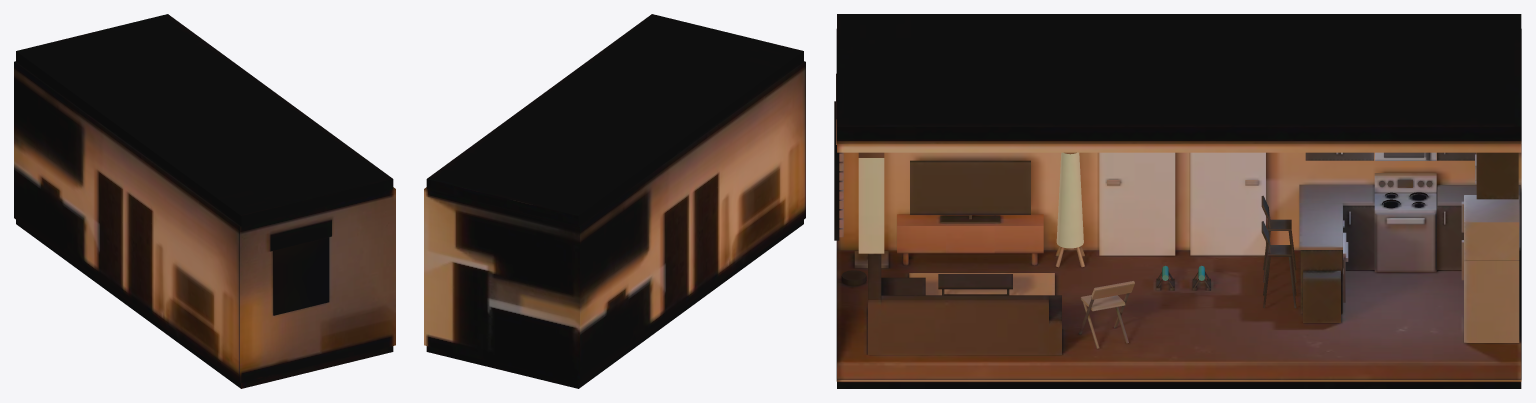
File: earl-street-transformed.glb
3 views of the same model, side by side, from view 1: azimuth 30°, elevation 25°; view 2: azimuth 150°, elevation 25°; view 3: azimuth 270°, elevation 25° (orthographic). The views are drawn at different scales.
Parts seen in each view (by area): view 1: Earl Street; view 2: Earl Street; view 3: Earl Street.
Part boxes in pixels (bbox=[...]): Earl Street: bbox=[14, 14, 395, 388]; Earl Street: bbox=[424, 14, 805, 388]; Earl Street: bbox=[834, 14, 1521, 388].
Size of the model in its own units: 1.01 by 1.07 by 2.53.
1 material, 1 textured.
